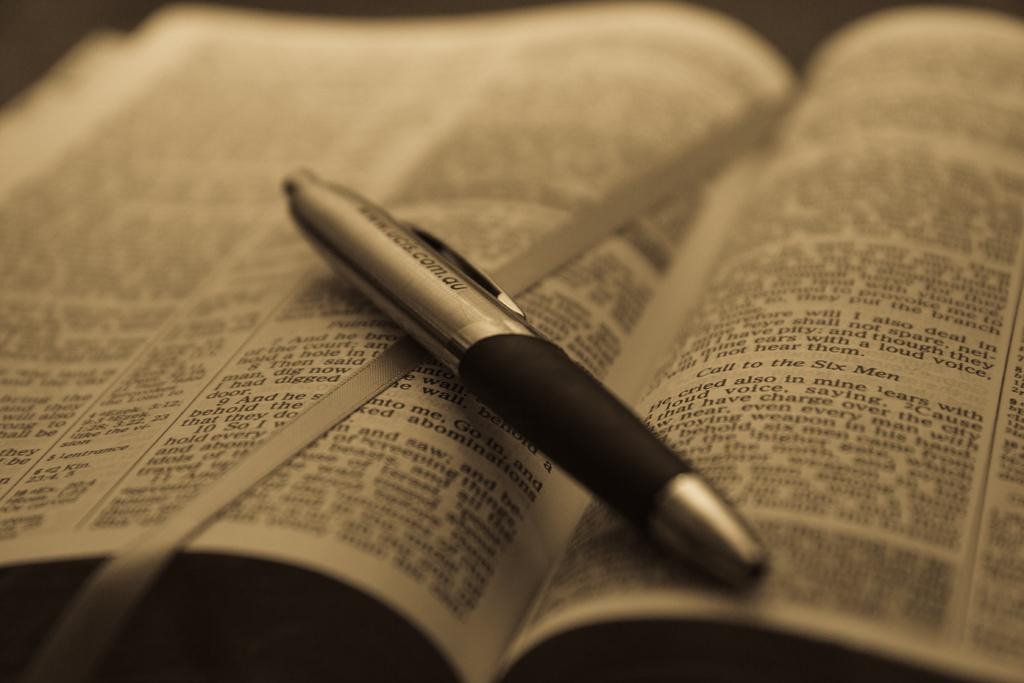pen: (291, 157, 779, 582)
